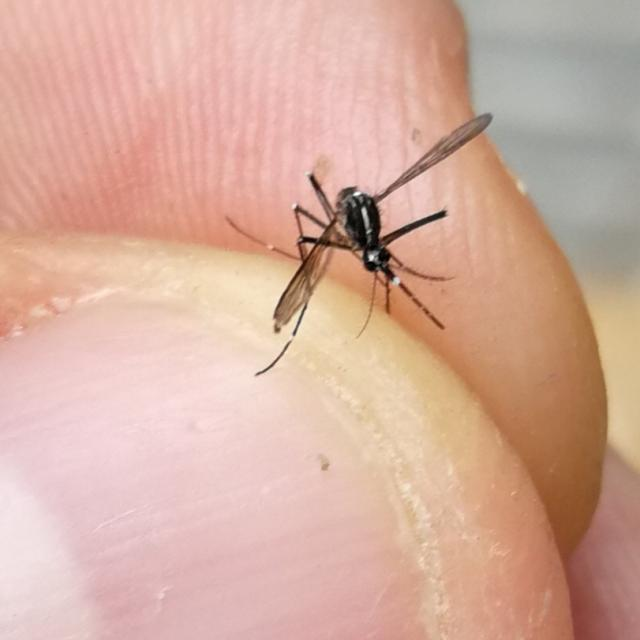albopictus: (223, 99, 484, 383)
